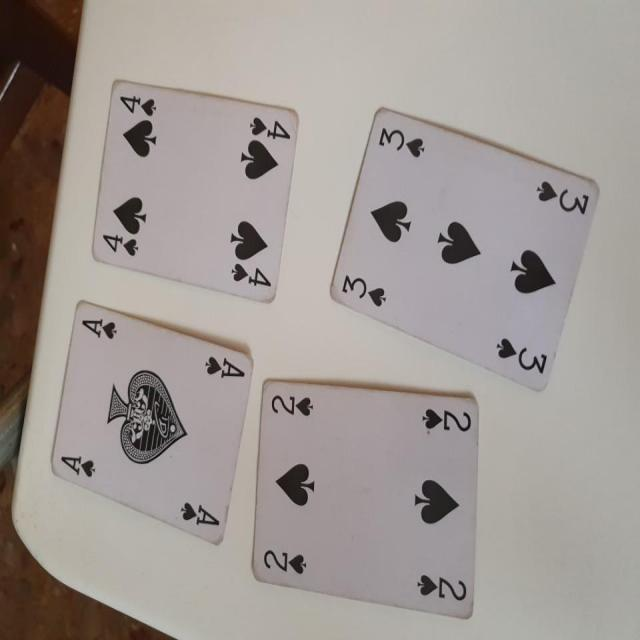2 of spades: (254, 378, 480, 617)
3 of spades: (328, 106, 604, 394)
4 of spades: (91, 79, 299, 302)
ace of spades: (56, 300, 250, 554)
